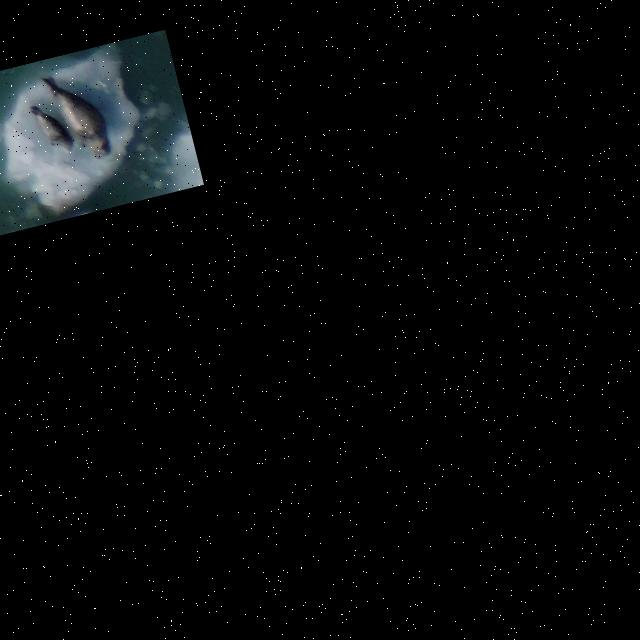seal: (35, 59, 119, 175), (24, 91, 81, 161)
